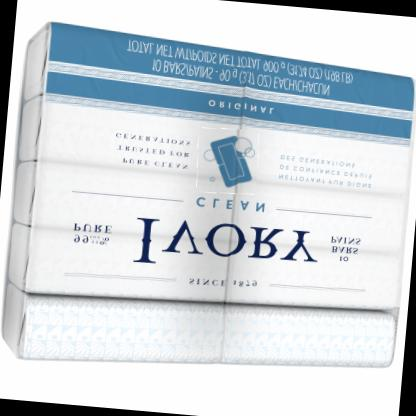soap: (195, 126, 262, 197)
